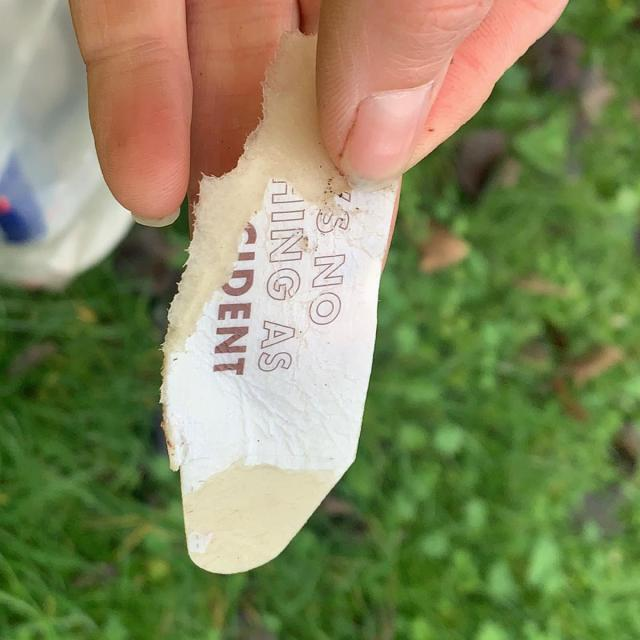Paper: (156, 24, 407, 578)
